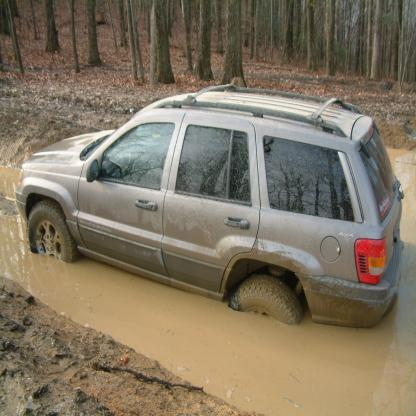Car: (15, 85, 405, 330)
